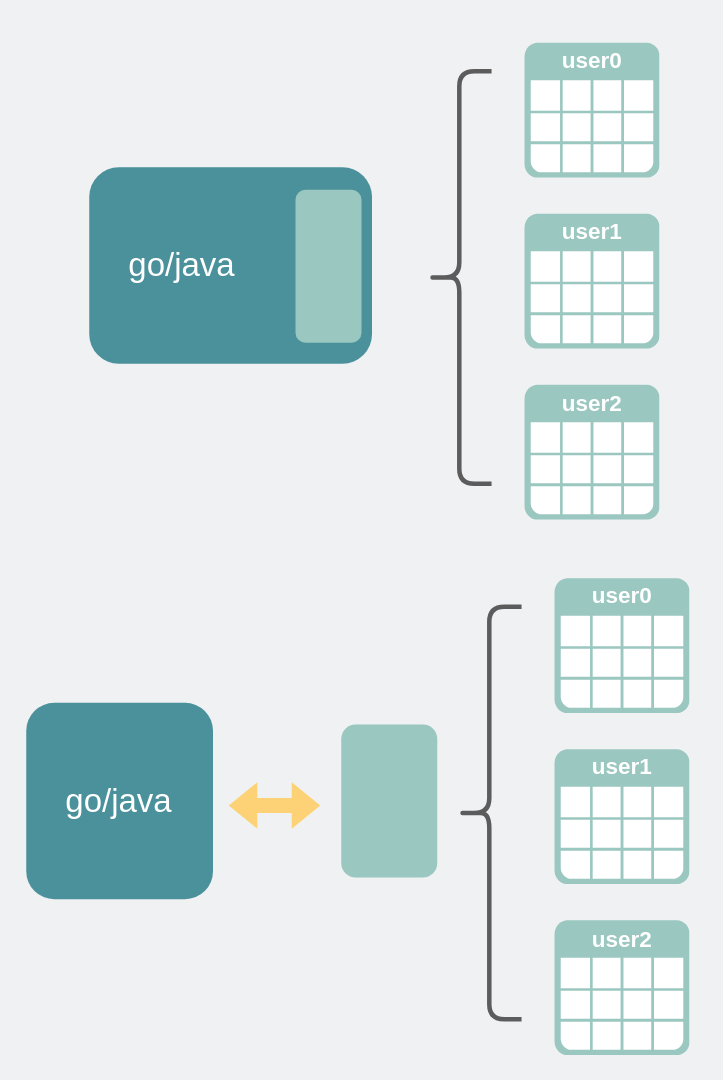
Some shapes in this 723 by 1080 pixel diagram are drawn without their labels. The shapes that lost their labels are listed below. From the top down, each one's centre as x and y in pixels, then its label:
At point (328, 265): "orm".
At point (388, 800): "proxy".
